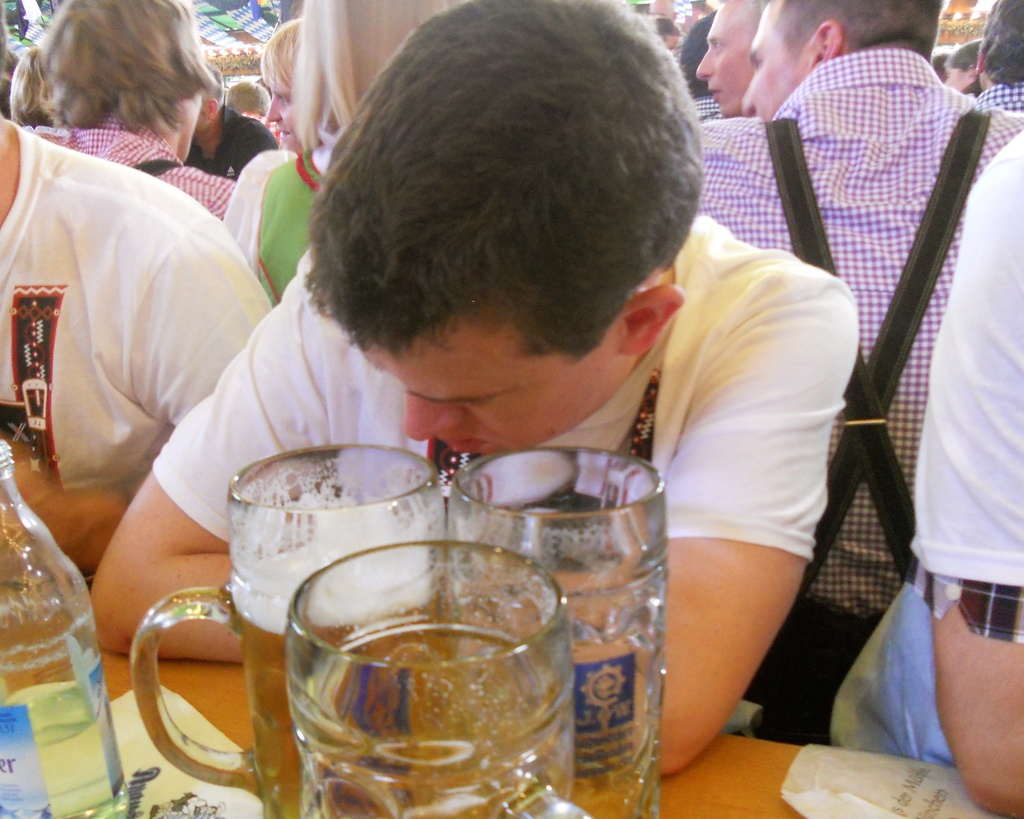Beer: (222, 537, 455, 818)
